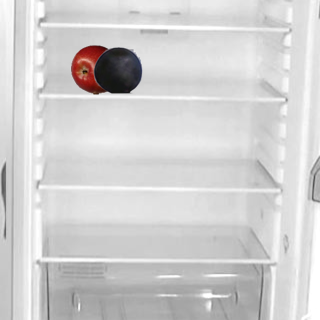Apple Braeburn: (70, 44, 120, 94)
Grape Blue: (92, 44, 142, 94)
